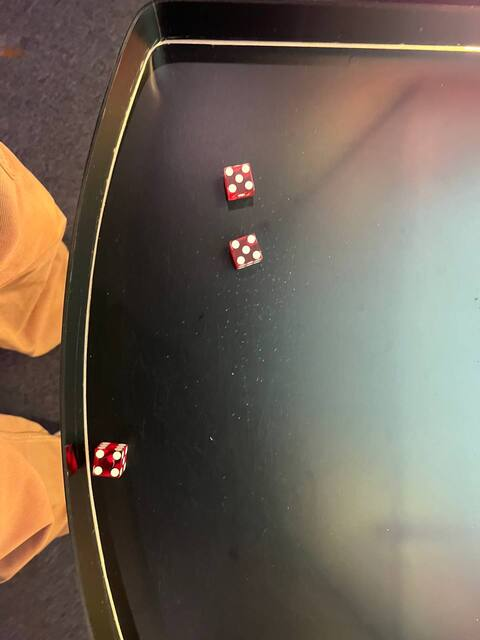five: (224, 231, 266, 270), (220, 161, 257, 196)
four: (87, 447, 124, 480)
